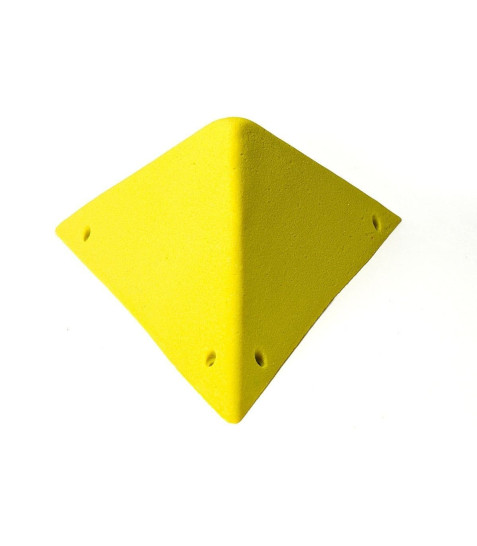volume: (54, 115, 399, 421)
